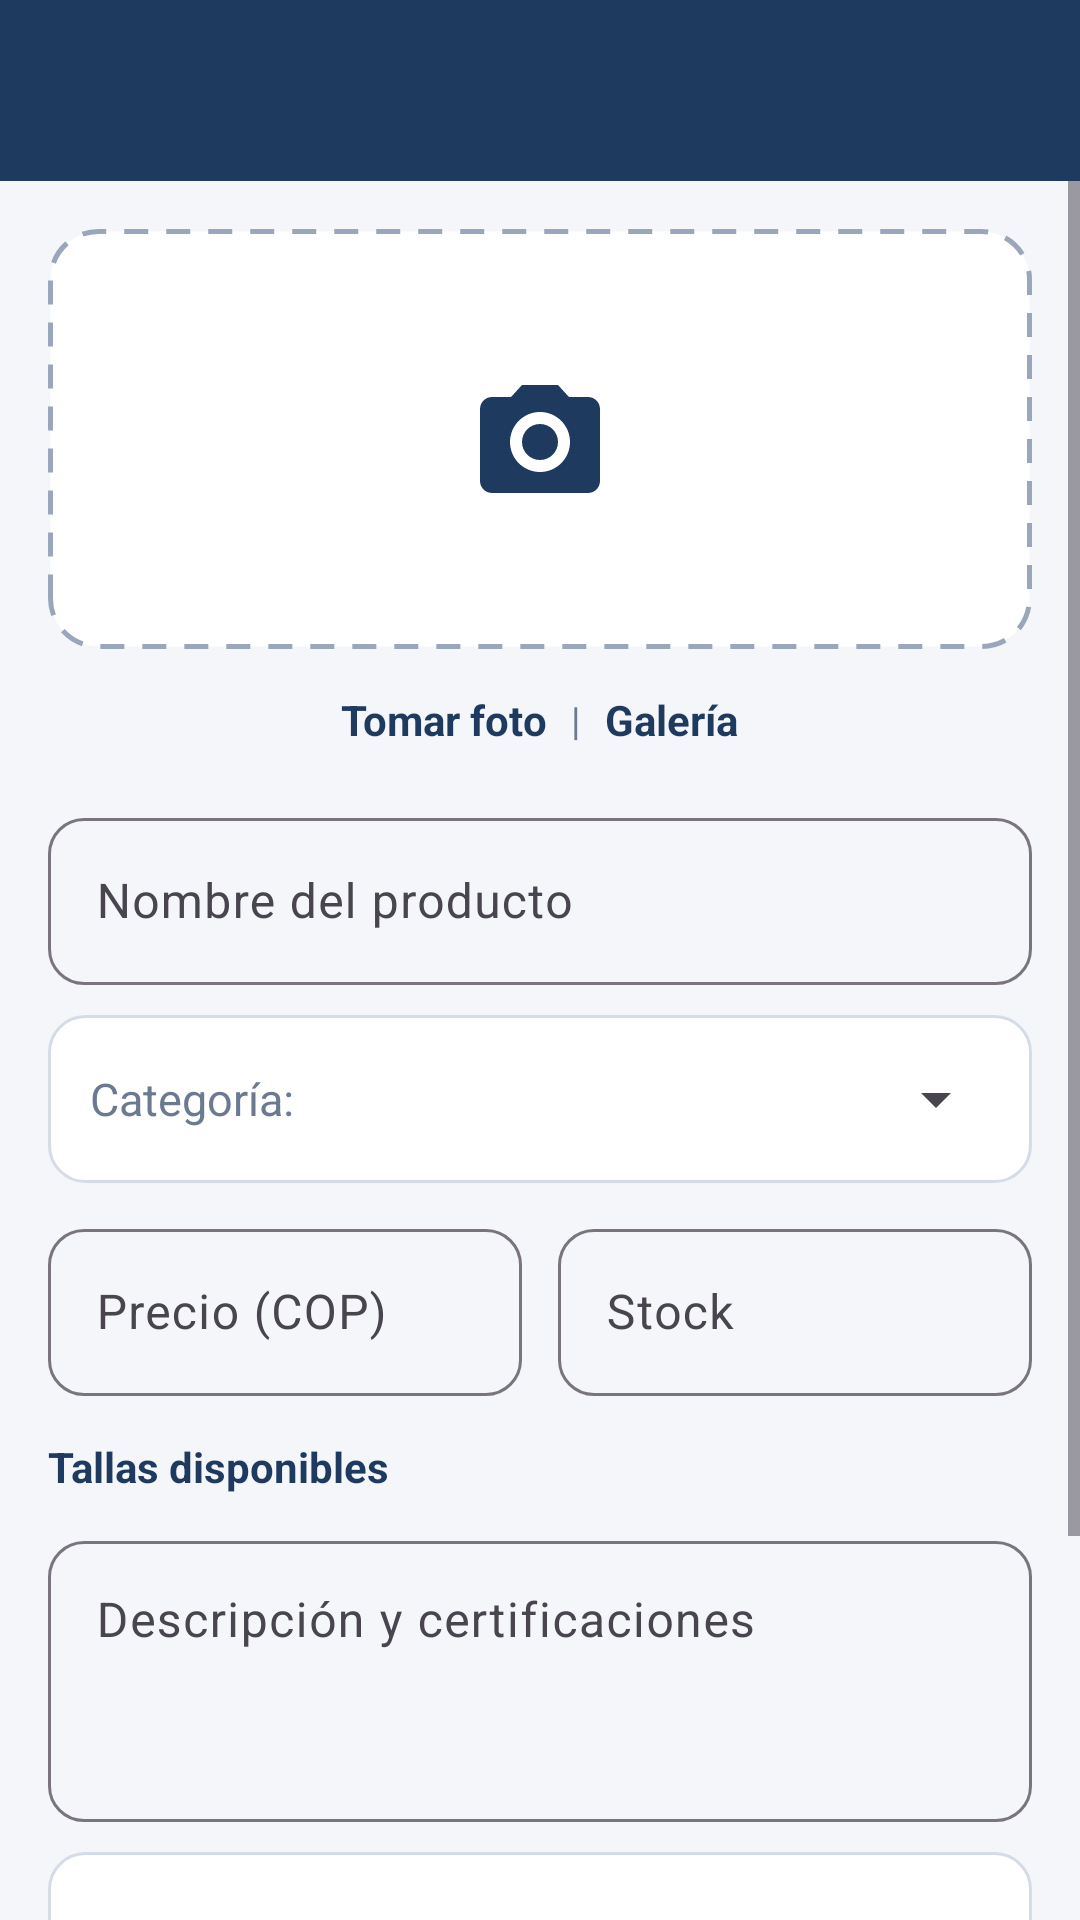

Where icons sit on this 1080x1920 app screen, as (x1, y1, x2, y2):
camera: (480, 385, 600, 493)
